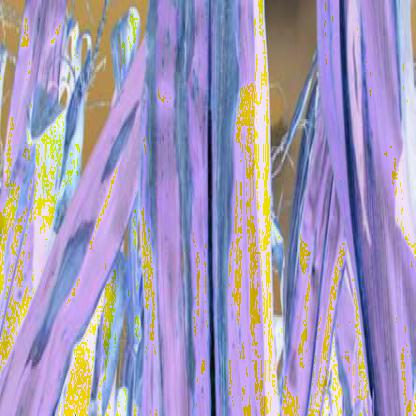corn leaf blight: (140, 4, 256, 414), (11, 70, 142, 414), (320, 2, 415, 400), (7, 2, 77, 349)
